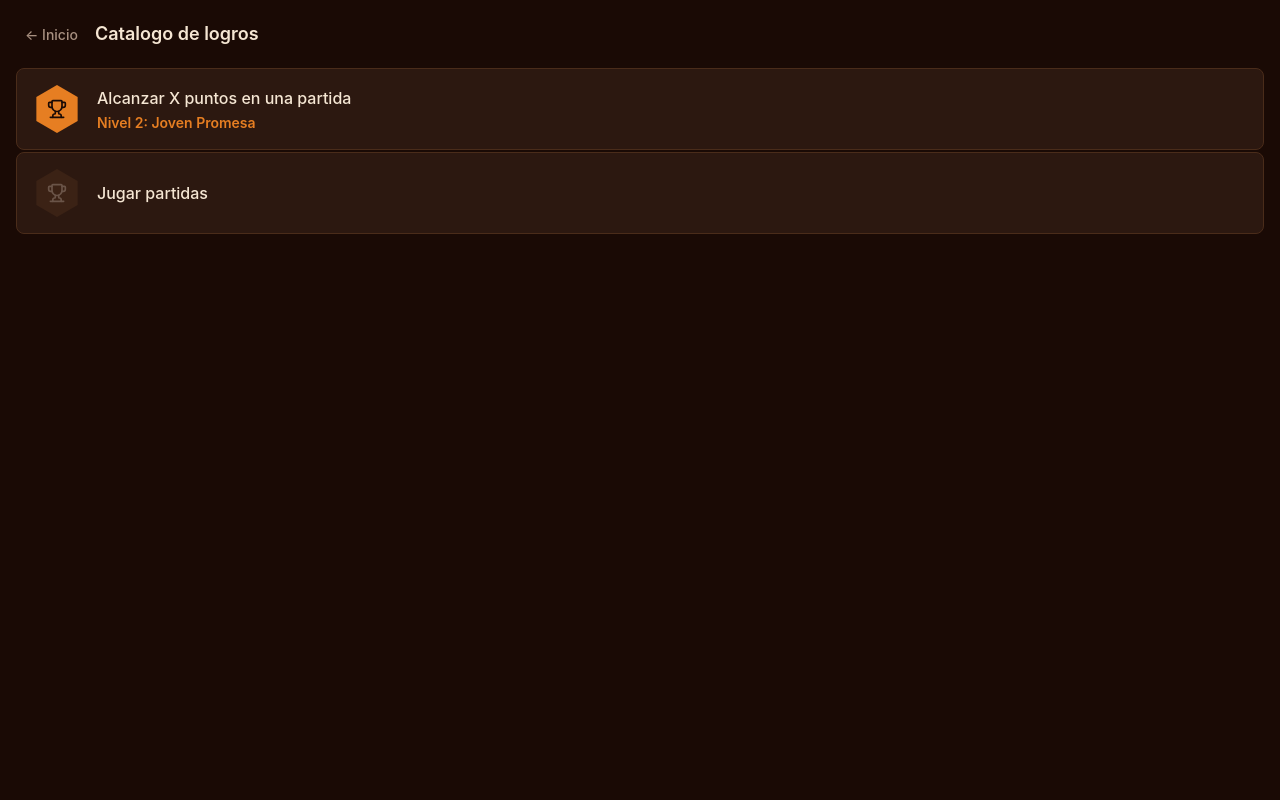
Test: AchievementCatalog › clicking a multi-tier achievement shows tier breakdown with holders
Check: the text "Alcanzar X puntos en una partida" is shown, box [97,86,351,110]
Click the button "Alcanzar X puntos en una partida".
click(57, 109)  # box [16,68,1264,150]
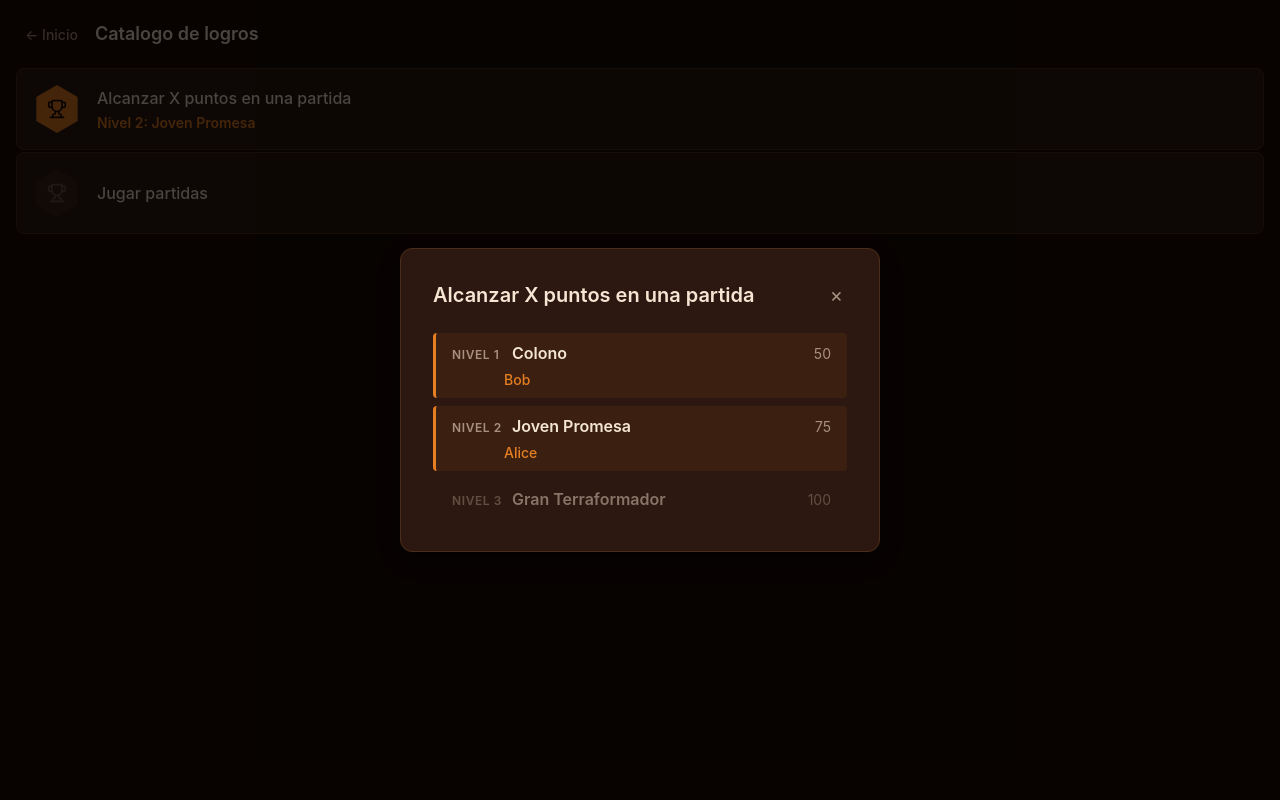
Check: the text "Colono" is shown, box [512,343,567,363]
Check: the text "Joven Promesa" is shown, box [512,416,631,436]
Check: the text "Gran Terraformador" is shown, box [512,489,666,509]
